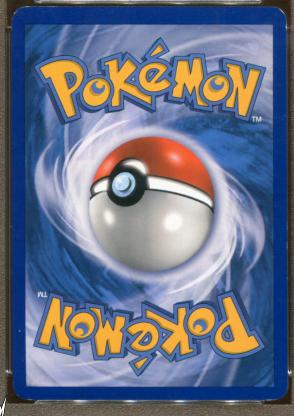Card: (9, 4, 289, 404)
Corner Wear: (10, 5, 29, 27), (273, 5, 286, 32), (15, 393, 19, 397)
Edge Wear: (262, 398, 278, 401), (27, 398, 36, 400)
